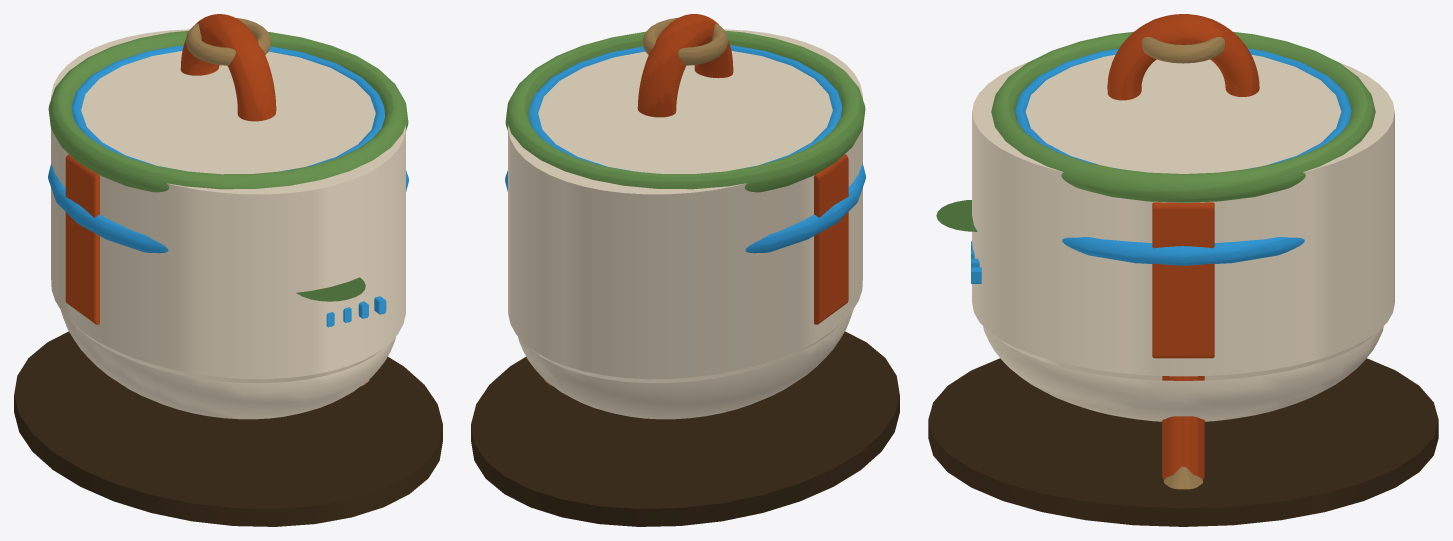
Rendered from 0265_世界古代文明图鉴_尊.glb.
3 views of the same model, side by side, from view 1: azimuth 30°, elevation 25°; view 2: azimuth 150°, elevation 25°; view 3: azimuth 270°, elevation 25° (orthographic). The views are drawn at different scales.
Parts seen in each view (by area): view 1: card_0265; view 2: card_0265; view 3: card_0265.
Boxes of the visible parts, box(x1,y1,x2,y2) form: card_0265: box(14, 14, 442, 526); card_0265: box(471, 14, 899, 526); card_0265: box(928, 14, 1438, 526).
Size of the model in its own units: 0.8693 by 1 by 1.06.
